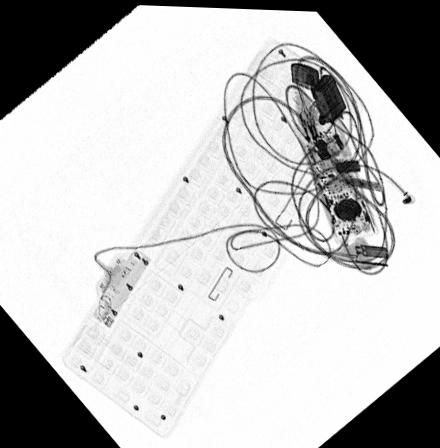Lighter: (289, 59, 344, 124)
